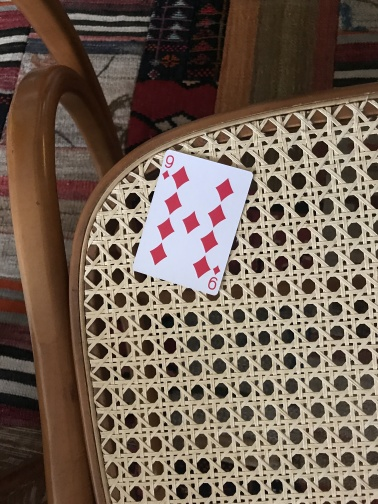nine: (131, 149, 254, 297)
